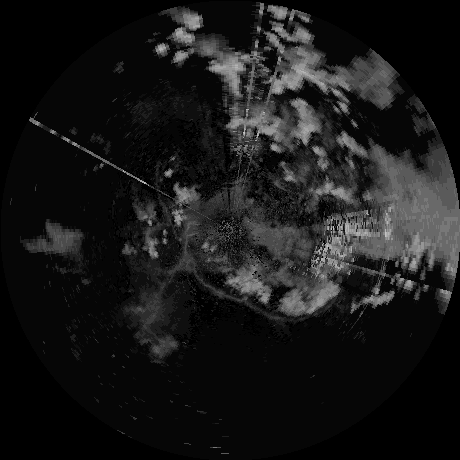frontgust: (192, 273, 248, 302), (154, 161, 174, 229), (245, 306, 311, 322), (180, 224, 197, 271)
